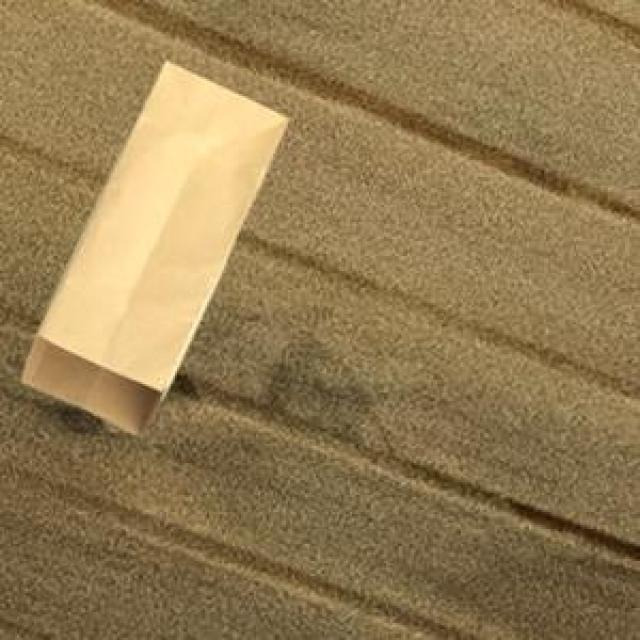paper: (19, 58, 284, 431)
